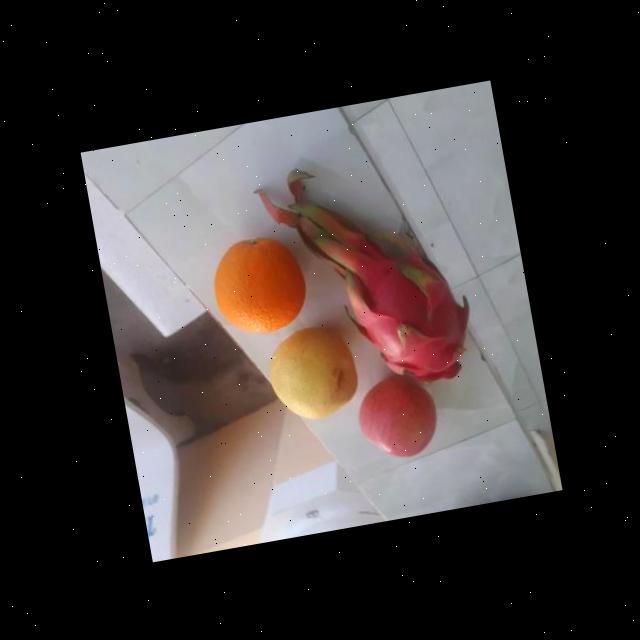apple: (352, 372, 446, 462)
orange: (205, 230, 315, 342)
pear: (260, 316, 368, 424)
pitaya: (337, 236, 483, 393)
